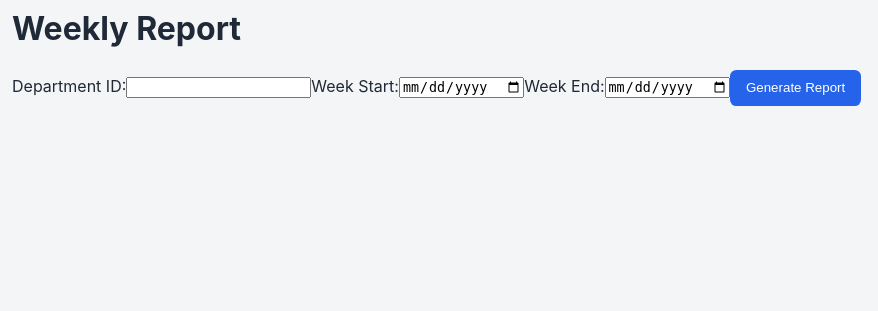
Test: WeeklyReportPage › creates and displays a weekly report
Step 1. Type "department-123" into the field labelled "Department ID:" → (219, 88), box [126,77,311,98]
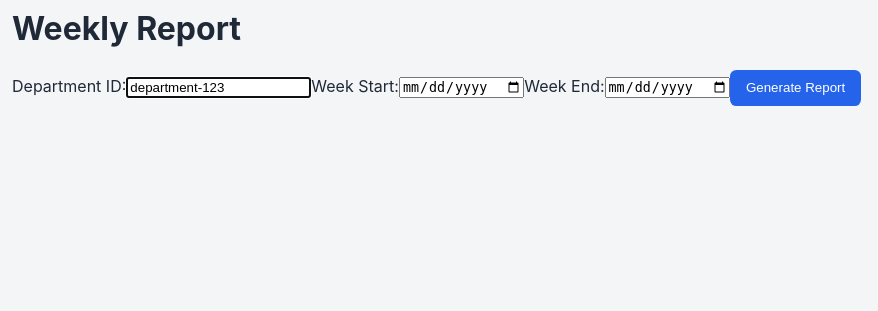
Step 2. Type "2026-08-02" into the date field labelled "Week Start:" → (462, 88), box [399,77,524,98]
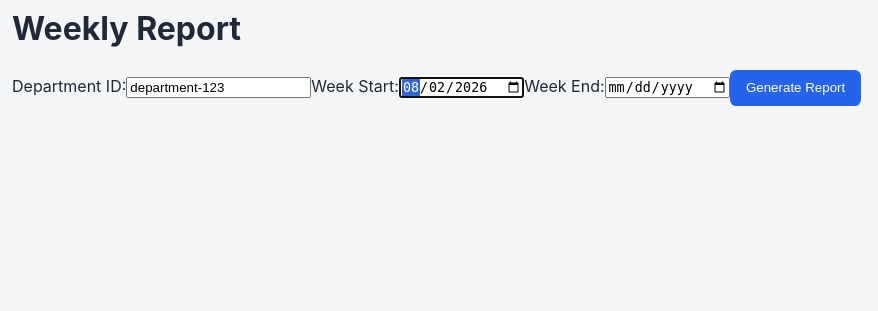
Step 3. Type "2026-08-08" into the date field labelled "Week End:" → (667, 88), box [605,77,730,98]
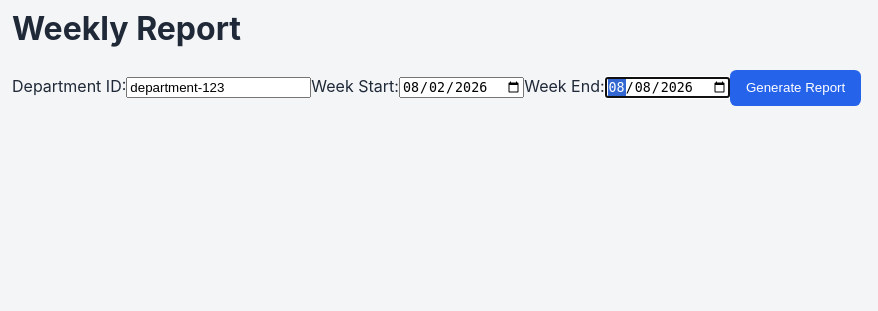
Step 4. Click the button "Generate Report" → click(796, 88), box [730,70,861,106]
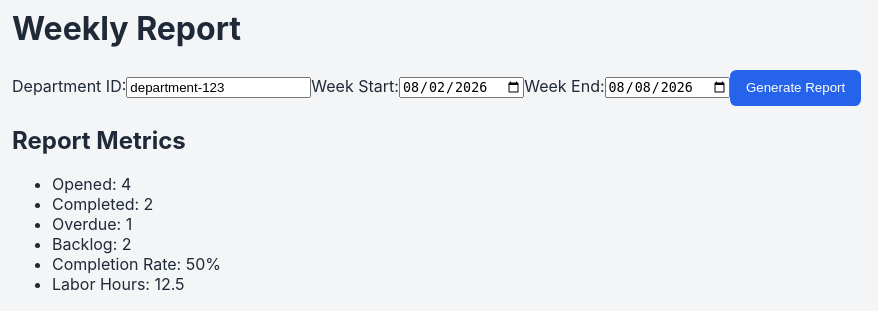
Expected: the list item "Completion Rate: 50%" is shown, [52,254,221,274]
Expected: the list item "Labor Hours: 12.5" is shown, [52,274,185,294]
